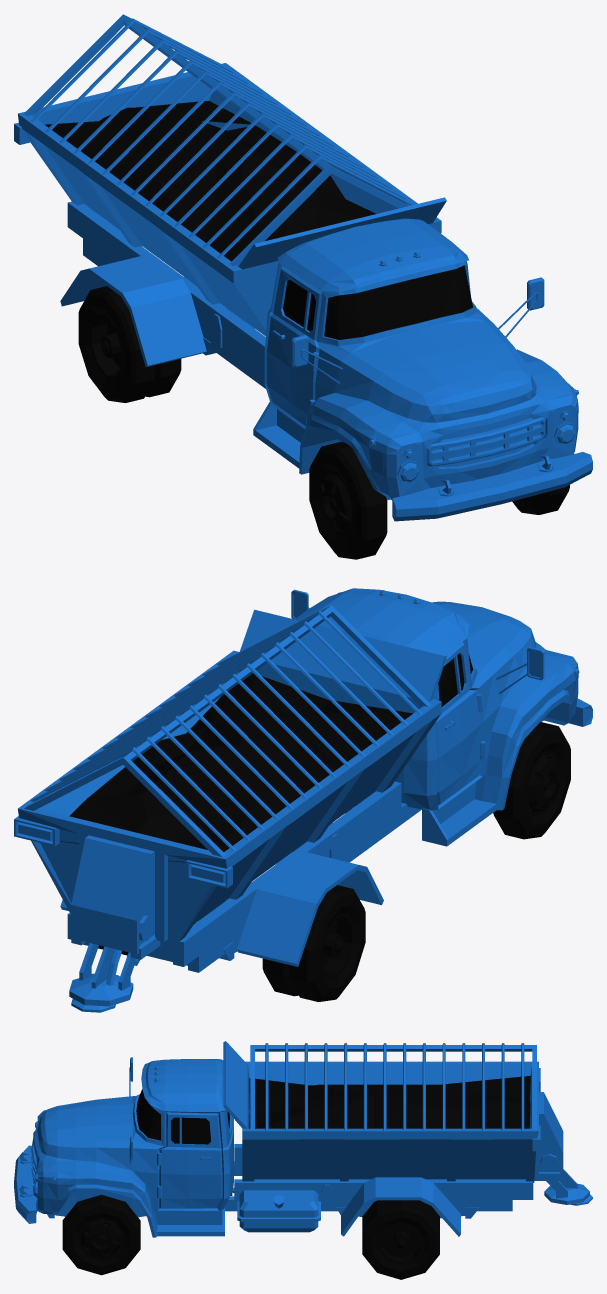
File: SM_sand_spreader.fbx
3 views of the same model, one above another, from view 1: azimuth 30°, elevation 25°; view 2: azimuth 150°, elevation 25°; view 3: azimuth 270°, elevation 25° (orthographic). The views are drawn at different scales.
Visible parts, largest first — view 1: Cube_10, Plane, Cylinder_3, Cylinder_2, Cylinder; view 2: Cube_10, Plane, Cylinder_3, Cylinder_2; view 3: Cube_10, Plane, Cylinder_3, Cylinder.
Boxes of the visible parts, left/top/right/bottom form: Cube_10: left=14, top=14, right=592, bottom=521; Plane: left=45, top=101, right=375, bottom=261; Cylinder_3: left=78, top=286, right=181, bottom=402; Cylinder_2: left=309, top=442, right=387, bottom=559; Cylinder: left=512, top=485, right=569, bottom=514; Cube_10: left=14, top=588, right=592, bottom=1012; Plane: left=60, top=673, right=412, bottom=862; Cylinder_3: left=98, top=885, right=365, bottom=1001; Cylinder_2: left=493, top=722, right=570, bottom=839; Cube_10: left=14, top=1041, right=592, bottom=1237; Plane: left=249, top=1075, right=530, bottom=1128; Cylinder_3: left=362, top=1200, right=439, bottom=1279; Cylinder: left=62, top=1194, right=140, bottom=1275.
Bounding box in the file's own units: 274 × 301 × 794.
